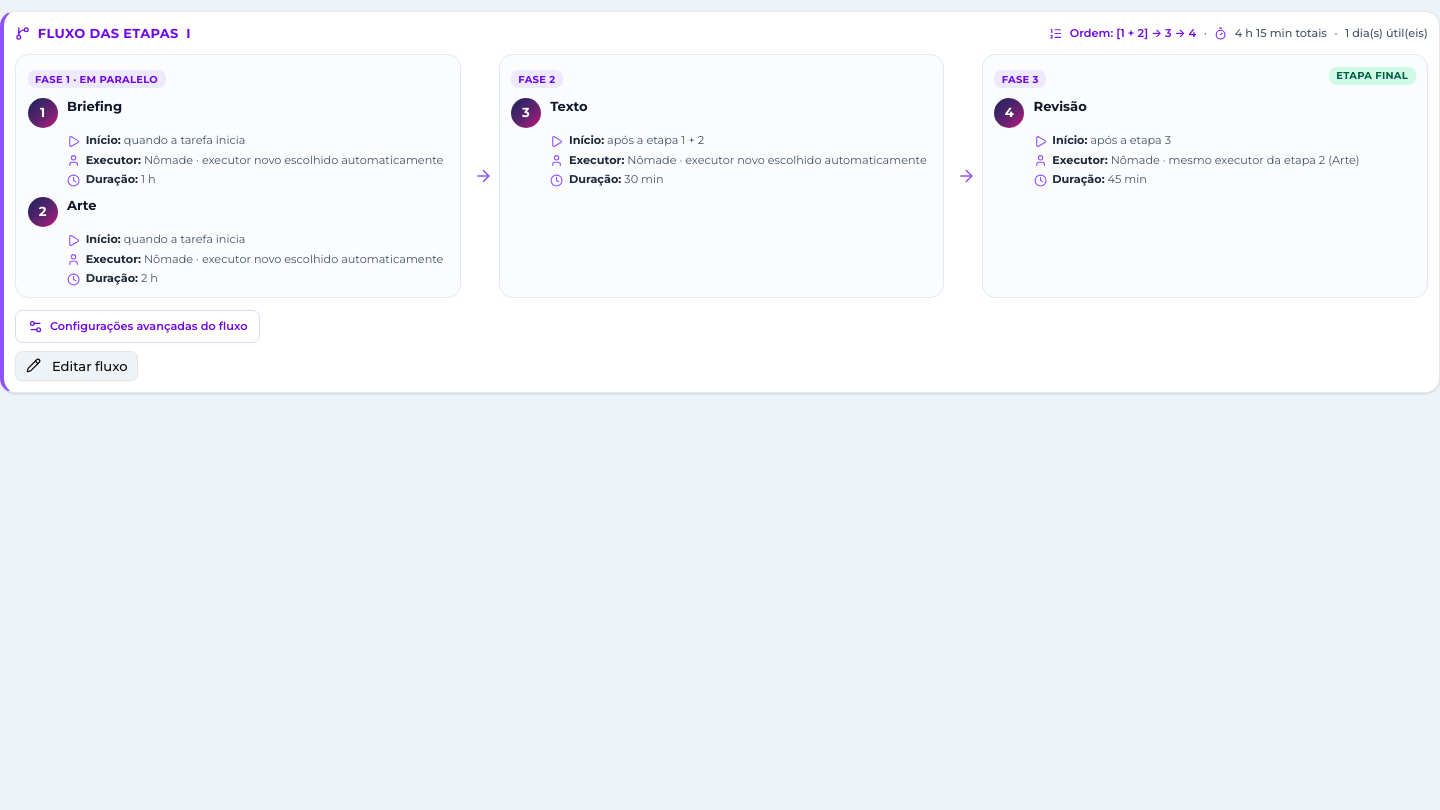
Test: Fluxo das etapas (A8) · editor › visão organizada do fluxo salvo: fases, o que espera o quê, executor e botão Editar fluxo
Later steps or results of the test are not shown.
Expected: the element with test id "flow-phases" is shown, [15,54,1428,298]
Click the button with test id "flow-advanced-btn": [138, 327] box [15,310,260,344]
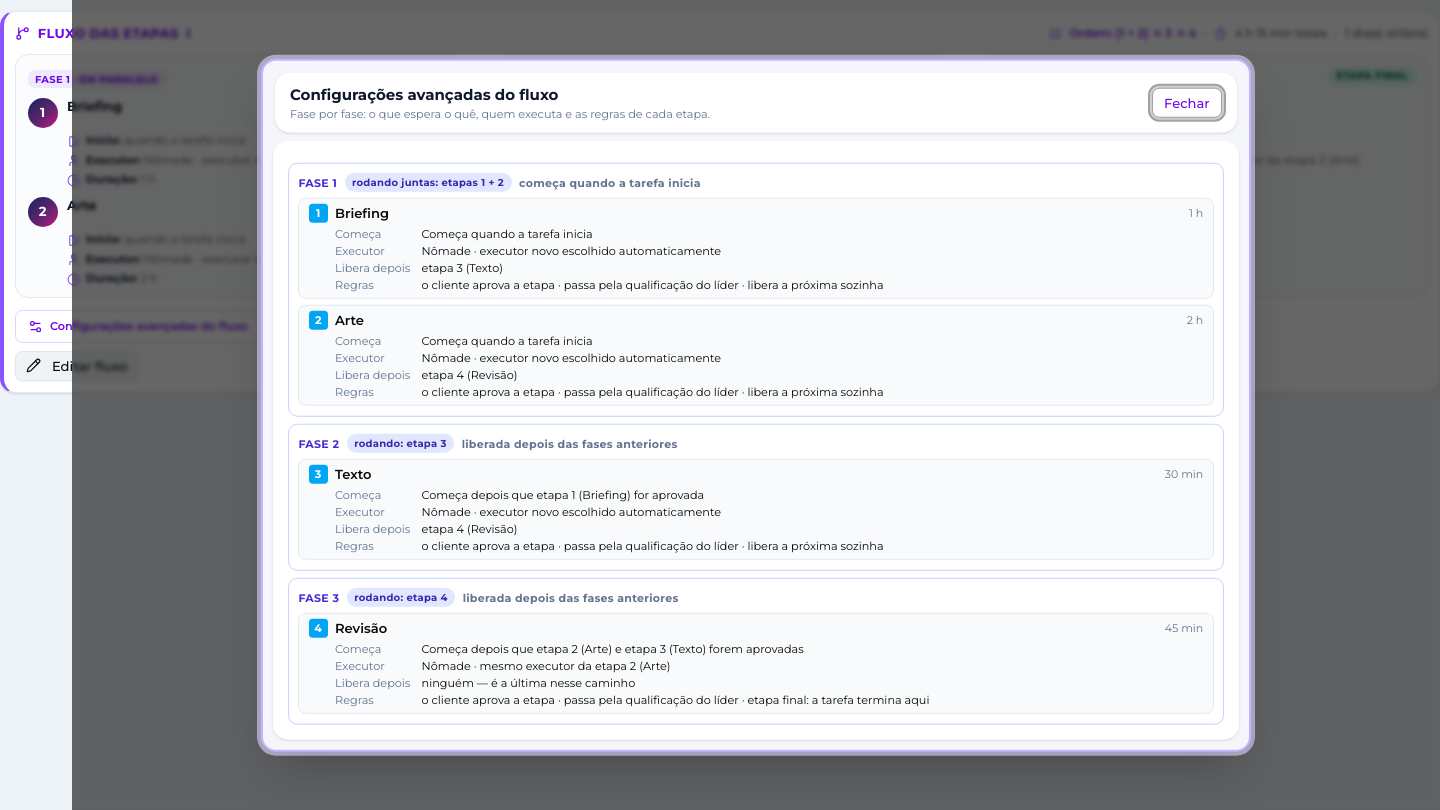
Now the element with test id "flow-overview" is shown, box [288,163,1224,724]
Now the element with test id "flow-wave-1" shows "rodando juntas: etapas 1 + 2", box [352,176,504,189]
Now the list item with test id "flow-step-s3" shows "Começa depois que etapa 1 (Briefing) for aprovada", box [422,488,704,502]
Click the button with test id "flow-advanced-close": [1187, 103] box [1152,88,1222,118]
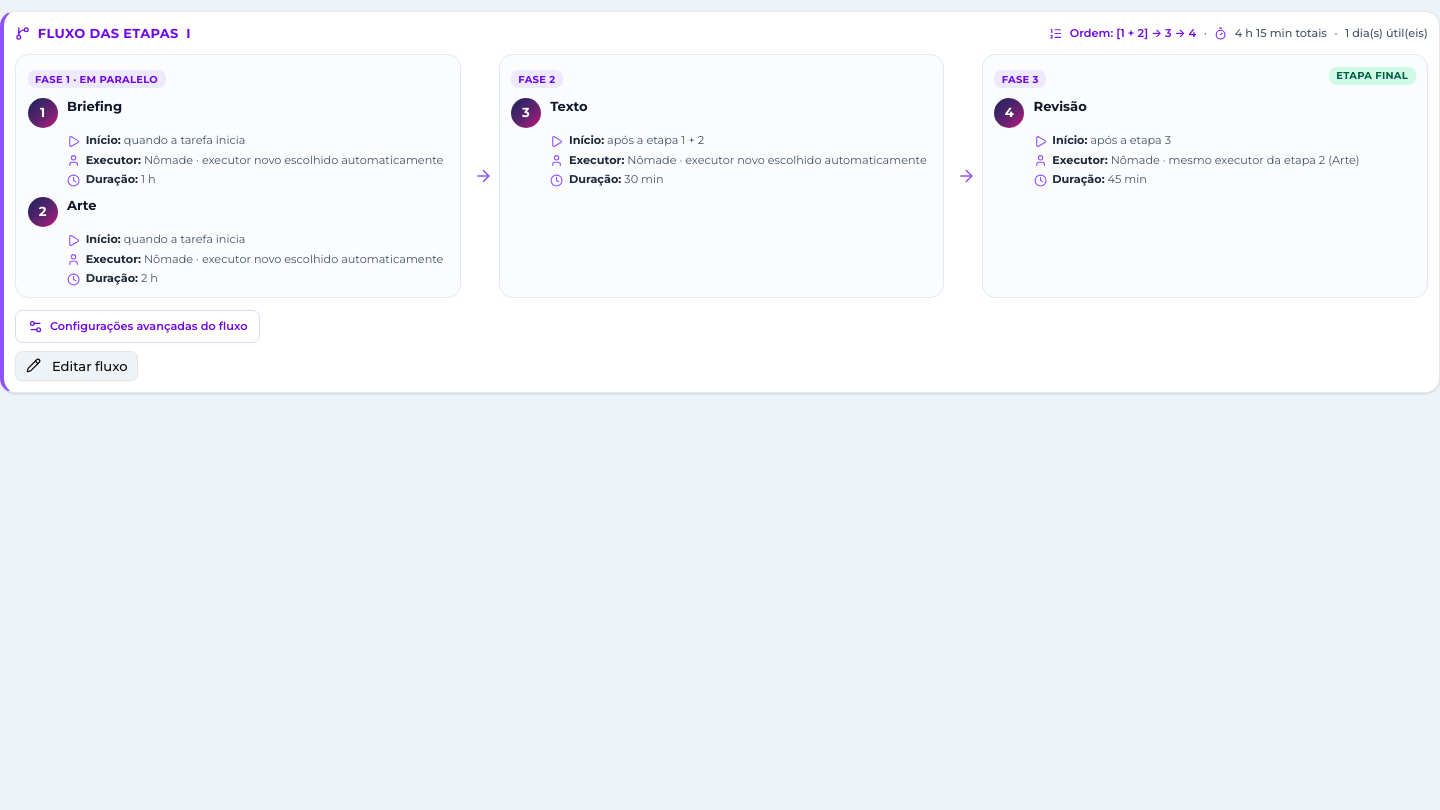
Click the button with test id "edit-step-flow": [77, 366] box [15,351,138,381]
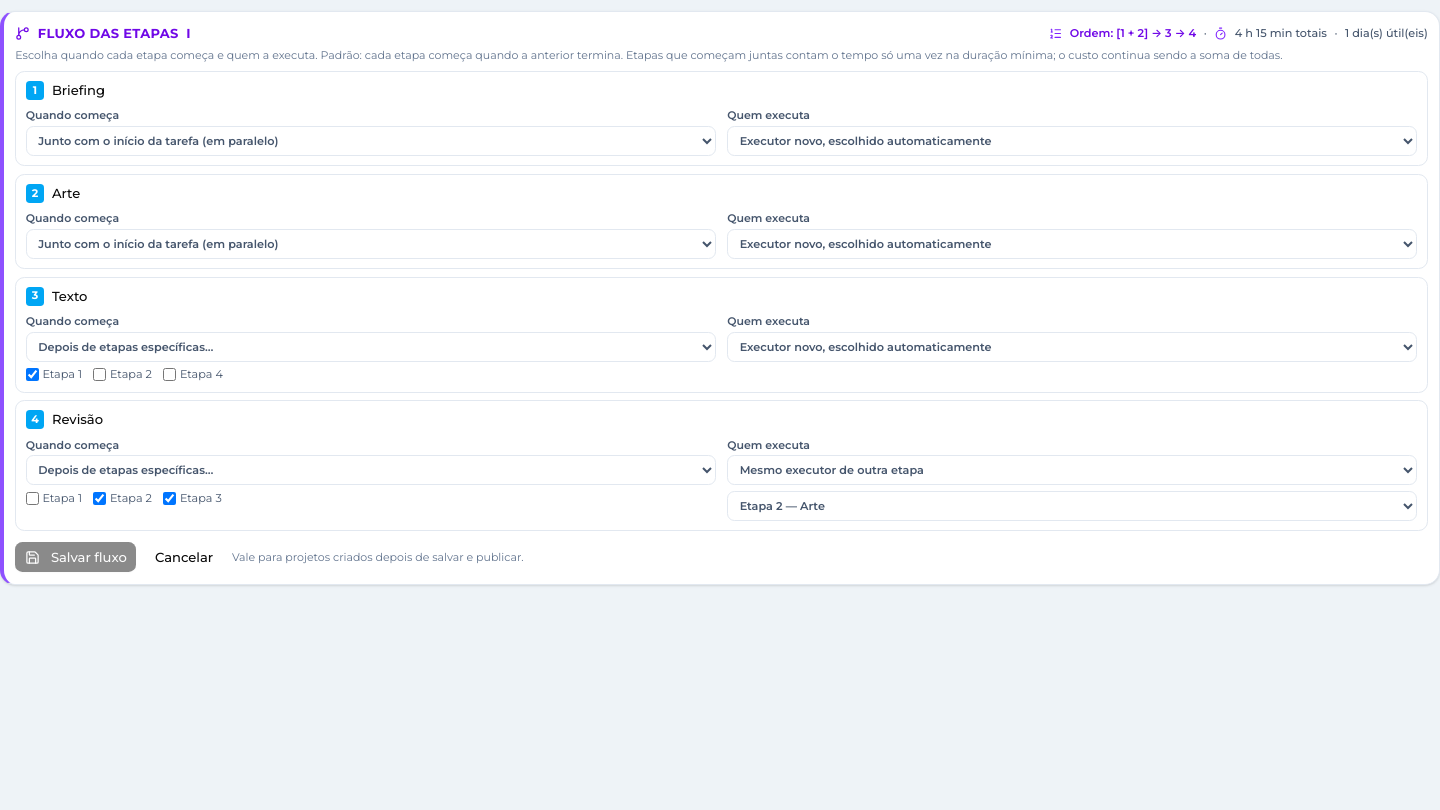
Now the dropdown named "Quando a etapa 1 começa" is shown, box [26,126,716,156]
